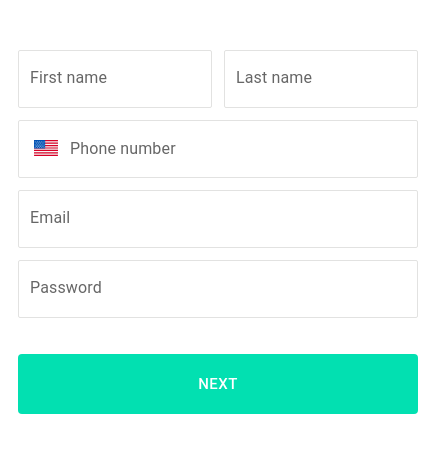
it: When Password field Doesn't have LowerCase character
Type "QWERTY123" into the field labelled "Password" at (218, 289), box [19,261,417,317]
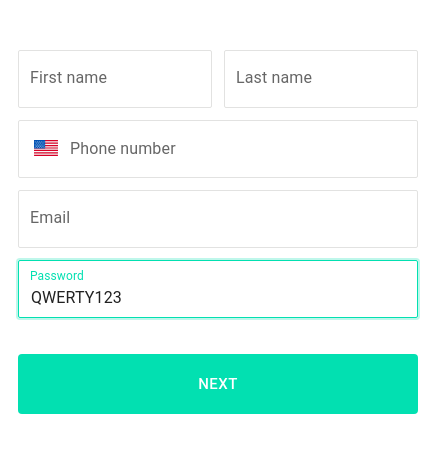
Click the button "NEXT" at (218, 384), box [18,354,418,414]
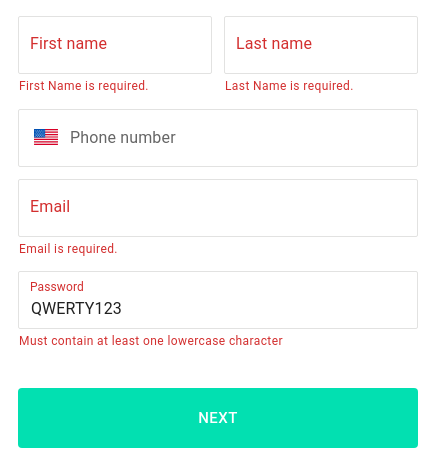
Check: the text "Must contain at least one lowercase character" is shown, box [19,334,283,348]
